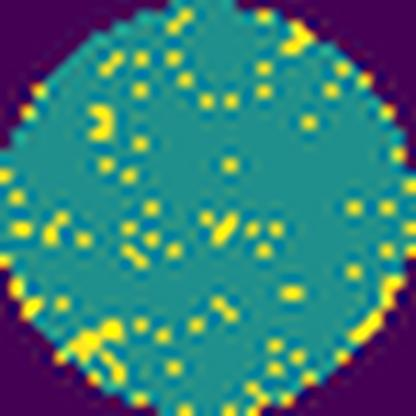Loc: (69, 317, 128, 357)
